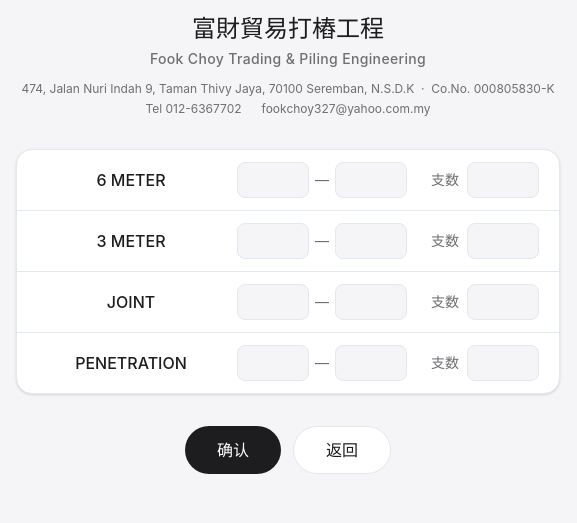
it: CopyPage › shows inline error (not alert) when last < first
Type "5" into the number field named "6 METER first pile". click: (273, 180)
box: [237,162,309,198]
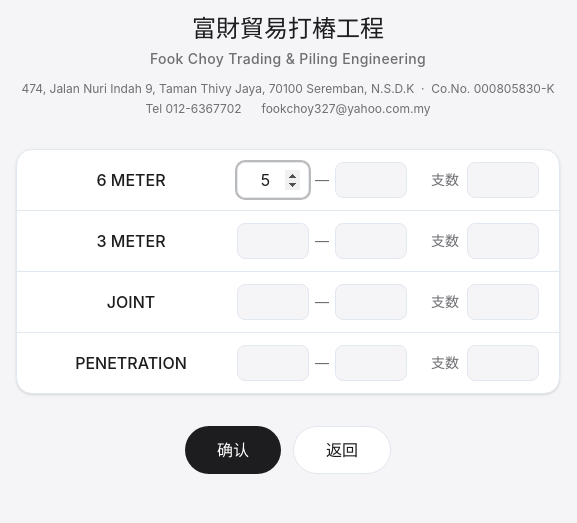
Type "3" into the number field named "6 METER last pile". click: (371, 180)
box: [335,162,407,198]
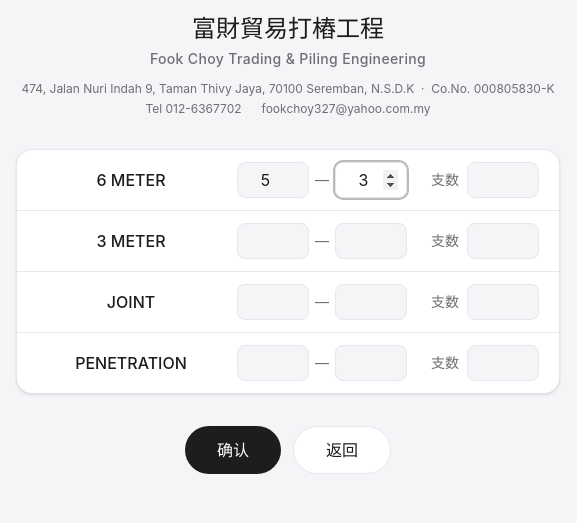
Type "1" into the number field named "6 METER value". click: (503, 180)
box: [467,162,539,198]
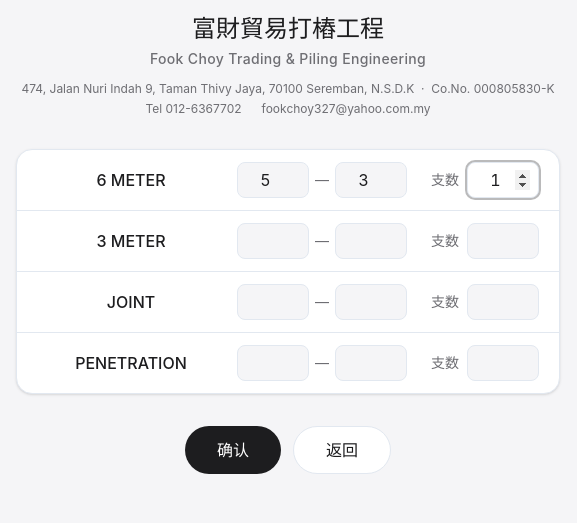
Click the button "确认". click: (233, 450)
box: [185,426,281,474]
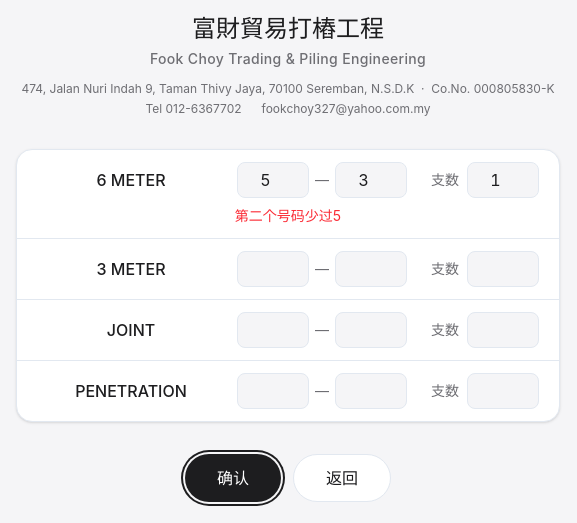
Now the message with test id "error-sixM" reads "第二个号码少过5", box [235,207,341,224]
